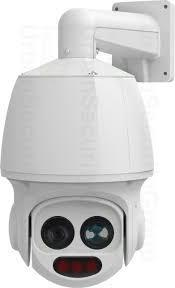maru: (1, 0, 175, 287)
